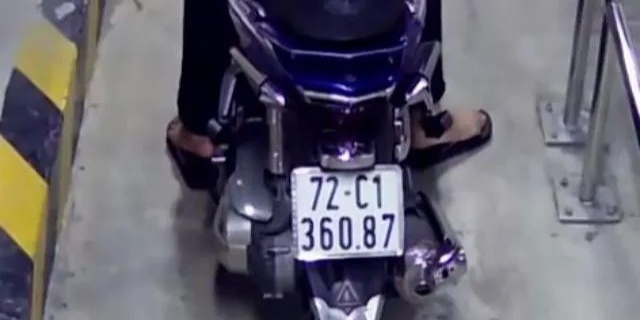bien_so: (295, 169, 406, 259)
